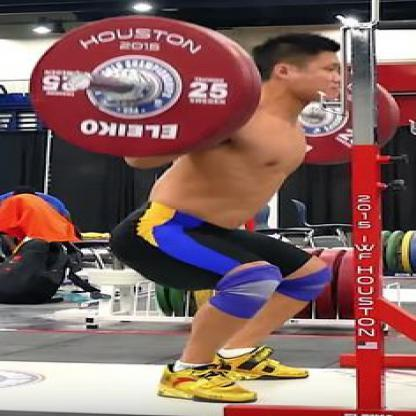barbell: (29, 13, 400, 169)
